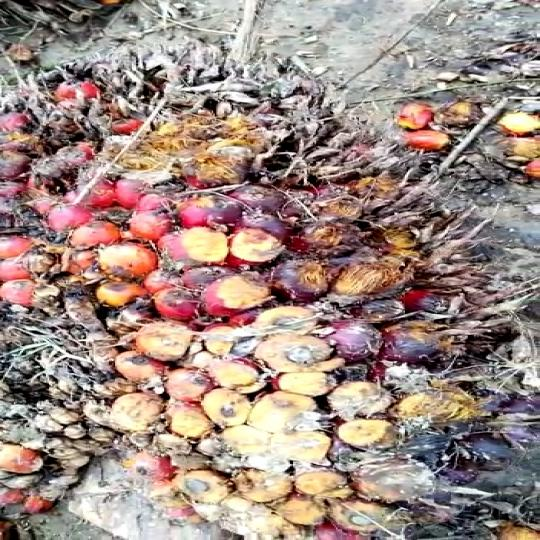masak: (0, 49, 540, 540)
